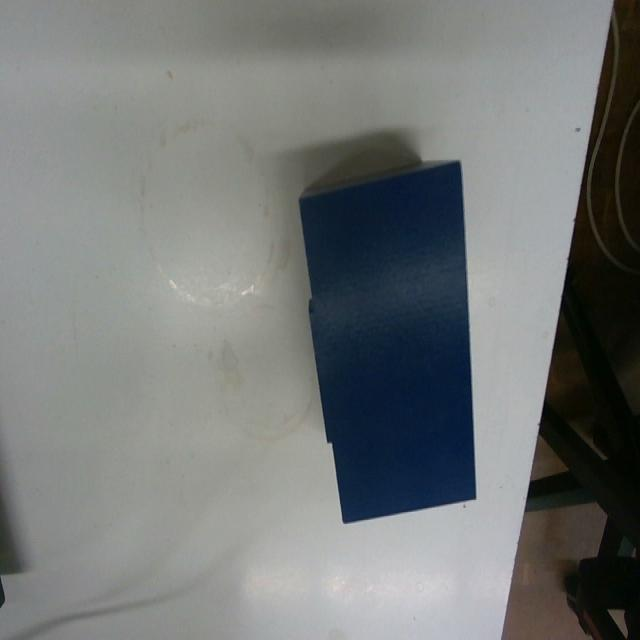Blue Cuboid: (296, 155, 479, 524)
